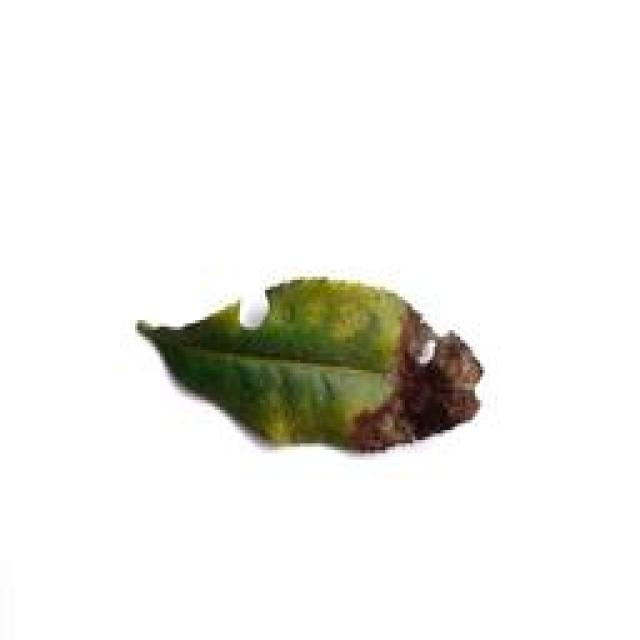Brown Blight: (130, 254, 485, 463)
